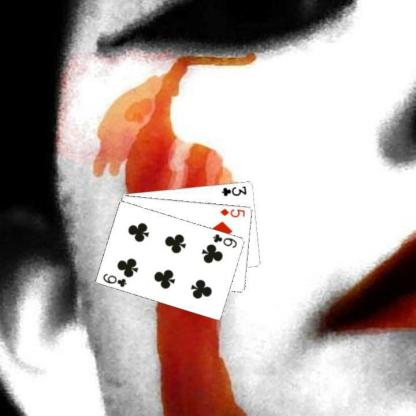3C: (219, 183, 248, 197)
5D: (218, 206, 246, 218)
6C: (211, 231, 238, 249), (101, 271, 128, 288)
